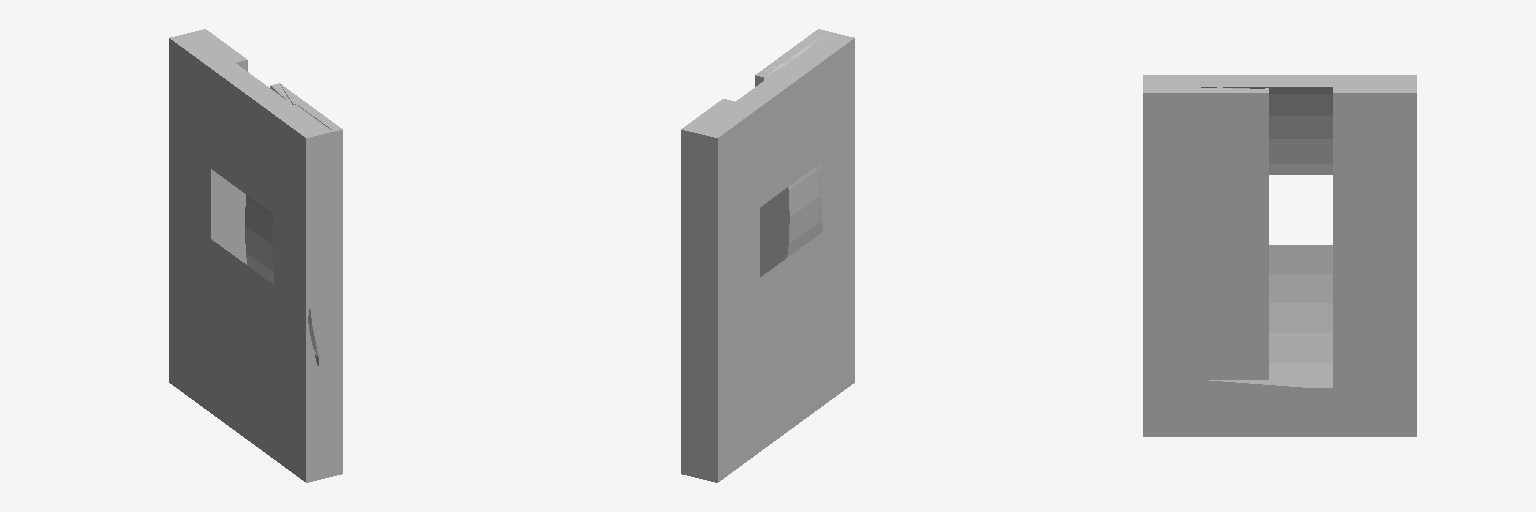
Rendered from openscad-nonmanifold-crash.obj.
The picture shows the model from 3 angles: view 1: azimuth 30°, elevation 25°; view 2: azimuth 150°, elevation 25°; view 3: azimuth 270°, elevation 25°; orthographic projection.
Bounding box in the file's own units: 2 × 18 × 13.